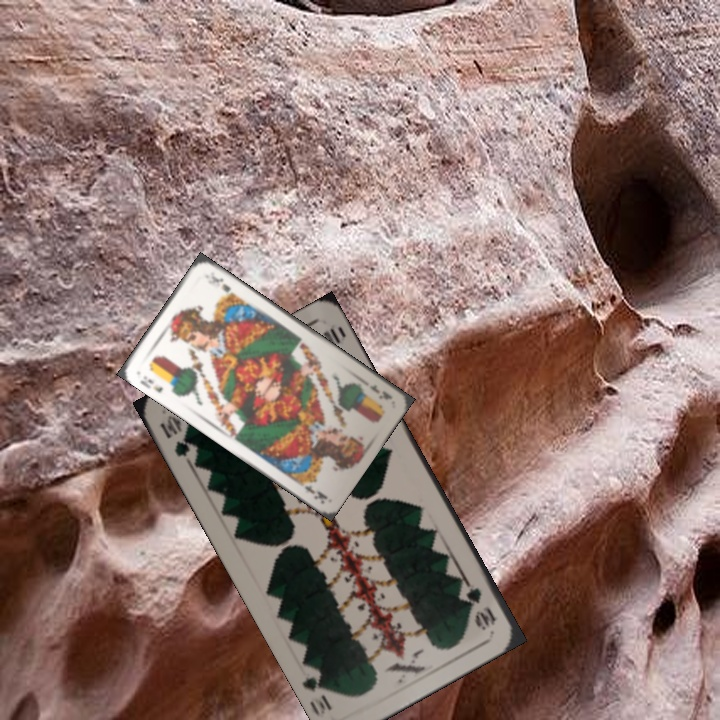EK: (136, 372, 165, 395), (365, 380, 395, 402)
G10: (456, 576, 499, 633), (155, 411, 201, 464)
